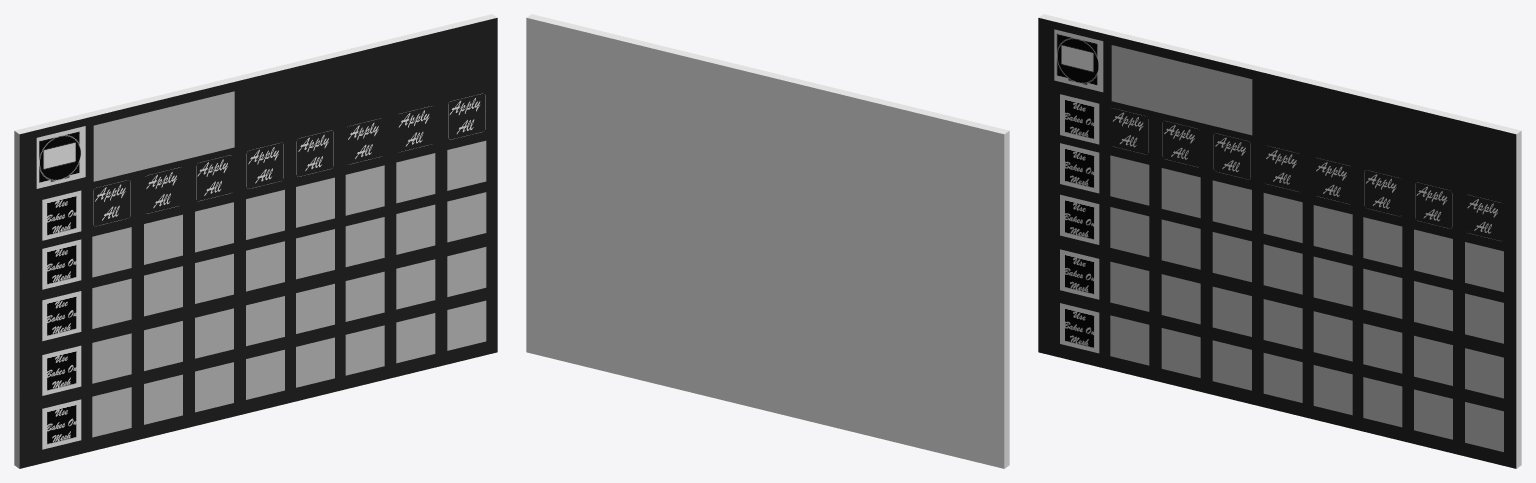
Rendered from SkinApplierHUD(BOMandMaterials).dae.
The picture shows the model from 3 angles, left to right: view 1: azimuth 30°, elevation 25°; view 2: azimuth 150°, elevation 25°; view 3: azimuth 330°, elevation 25°; orthographic projection.
Visible parts, largest first — view 1: prim47, prim24, prim14, prim1, prim3, prim9, prim28, prim30, prim31, prim4, prim10, prim22 (+28 smaller); view 2: prim47; view 3: prim47, prim24, prim14, prim1, prim10, prim15, prim16, prim40, prim3, prim9, prim13, prim19 (+28 smaller).
Part boxes in pixels (left/top/right/bottom): prim47: left=14, top=14, right=497, bottom=468; prim24: left=93, top=91, right=234, bottom=181; prim14: left=36, top=126, right=85, bottom=188; prim1: left=92, top=227, right=131, bottom=277; prim3: left=92, top=387, right=131, bottom=437; prim9: left=92, top=333, right=131, bottom=383; prim28: left=396, top=259, right=435, bottom=309; prim30: left=345, top=165, right=384, bottom=215; prim31: left=345, top=325, right=384, bottom=375; prim4: left=447, top=192, right=486, bottom=242; prim10: left=345, top=271, right=384, bottom=321; prim22: left=42, top=399, right=81, bottom=449; prim47: left=526, top=14, right=1009, bottom=468; prim47: left=1038, top=14, right=1521, bottom=468; prim24: left=1111, top=45, right=1252, bottom=135; prim14: left=1054, top=29, right=1103, bottom=92; prim1: left=1110, top=155, right=1149, bottom=205; prim10: left=1363, top=323, right=1402, bottom=373; prim15: left=1060, top=249, right=1099, bottom=299; prim16: left=1212, top=340, right=1251, bottom=390; prim40: left=1313, top=311, right=1352, bottom=361; prim3: left=1110, top=315, right=1149, bottom=365; prim9: left=1110, top=261, right=1149, bottom=311; prim13: left=1060, top=143, right=1099, bottom=193; prim19: left=1060, top=194, right=1099, bottom=244.
Size of the model in its own units: 2.45 by 0.0503 by 1.64.
